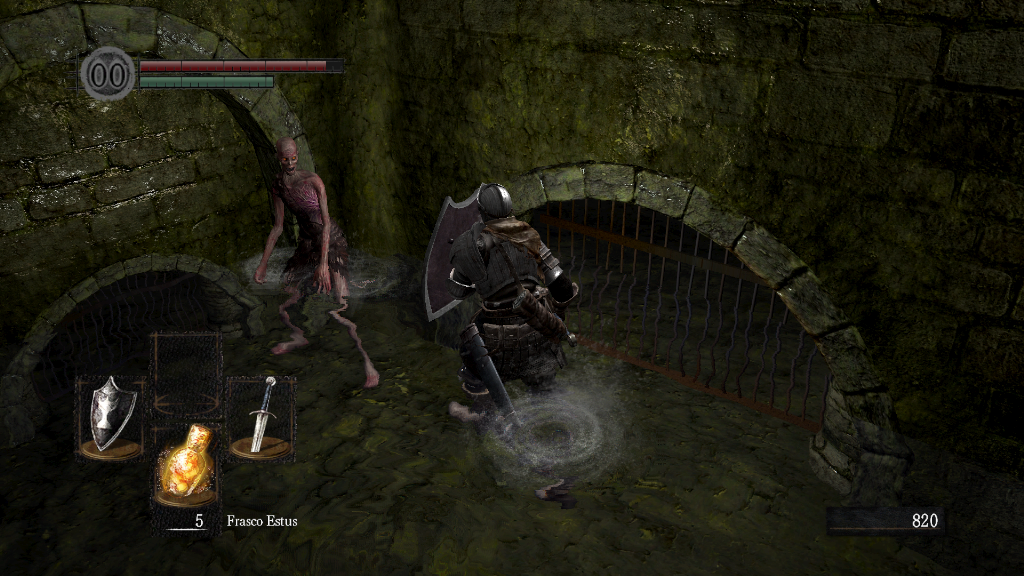health: (138, 58, 343, 71)
hollow: (255, 137, 377, 388)
humanity: (80, 45, 136, 102)
player: (418, 180, 584, 507)
souls: (825, 506, 945, 536)
stamina: (138, 74, 274, 88)
